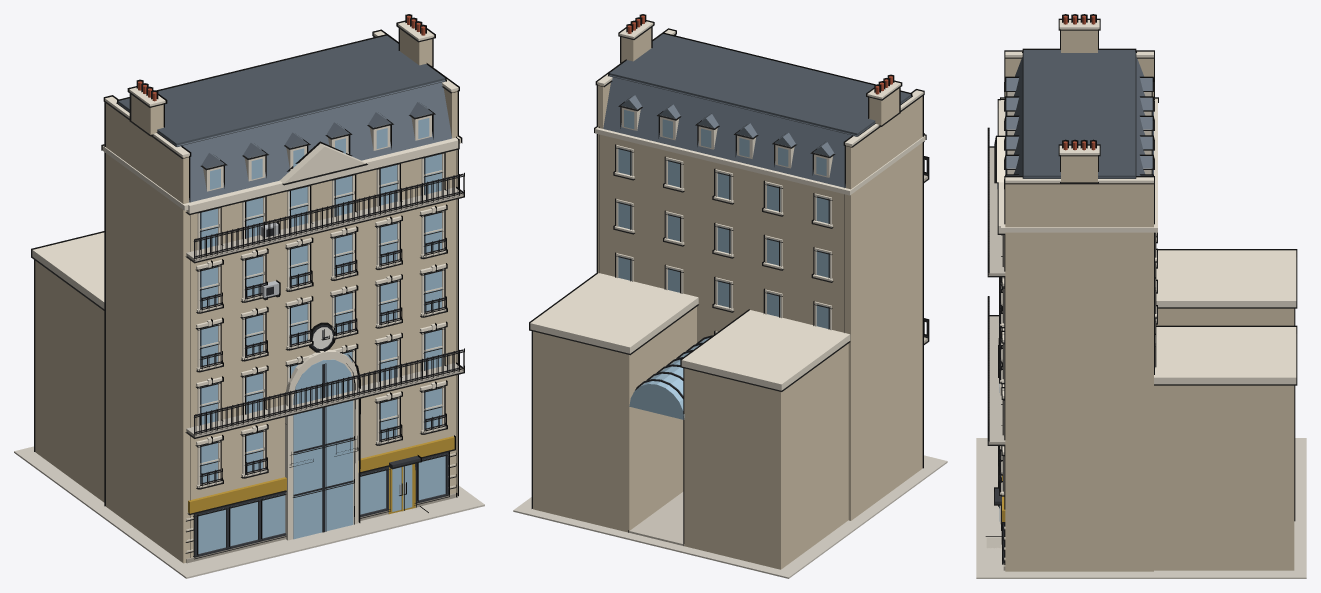
The model's file is Konut_ref_pasajli.fbx.
3 views of the same model, side by side, from view 1: azimuth 30°, elevation 25°; view 2: azimuth 150°, elevation 25°; view 3: azimuth 270°, elevation 25° (orthographic). The views are drawn at different scales.
Parts seen in each view (by area): view 1: Konut_ref_pasajli; view 2: Konut_ref_pasajli; view 3: Konut_ref_pasajli.
Boxes of the visible parts, <box> form: Konut_ref_pasajli: <box>14,14,484,578</box>; Konut_ref_pasajli: <box>513,14,947,578</box>; Konut_ref_pasajli: <box>976,14,1306,578</box>.
Size of the model in its own units: 16 by 23.1 by 16.
